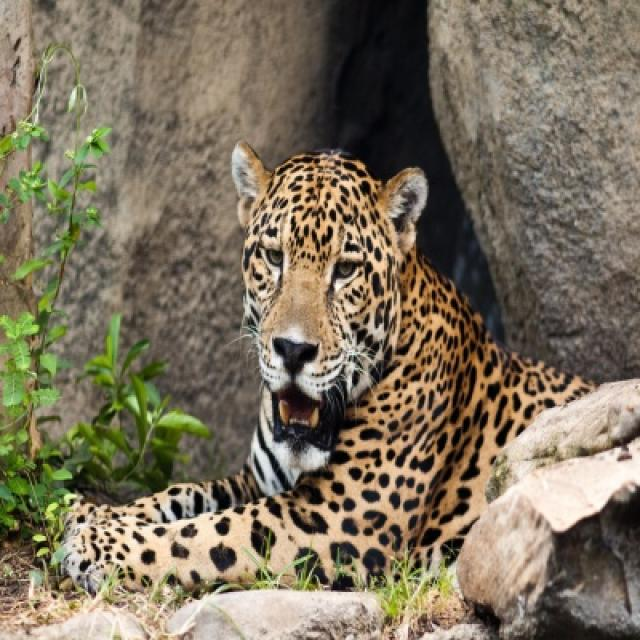Jaguar: (59, 144, 598, 602)
